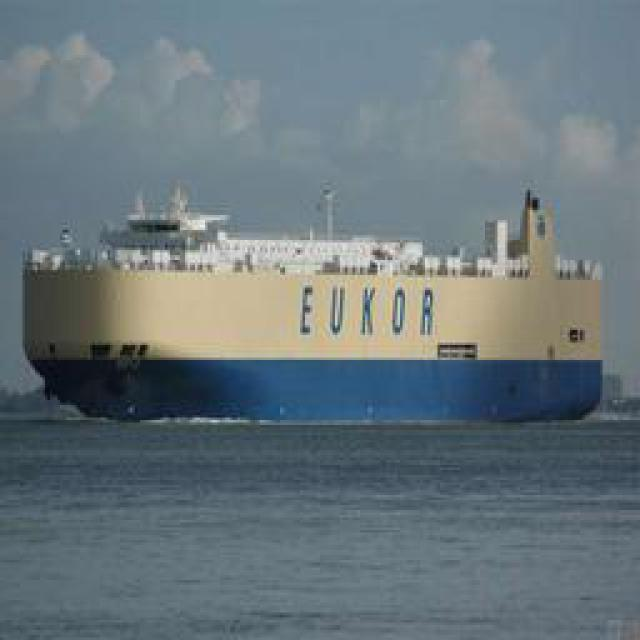Ship: (20, 142, 620, 422)
